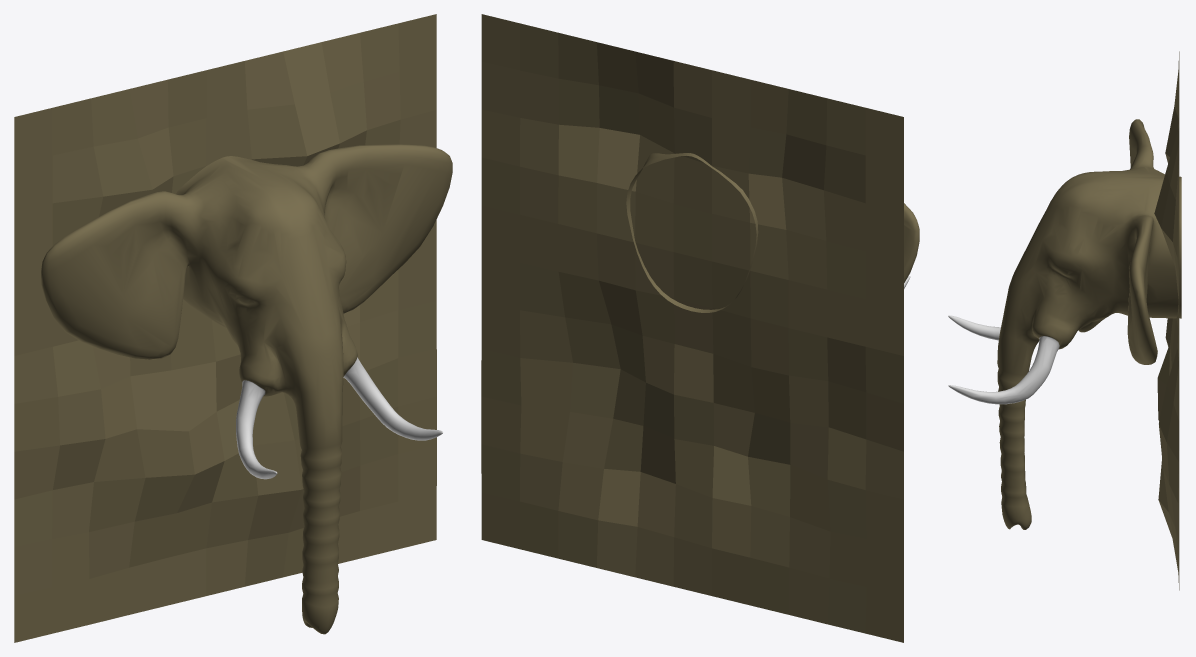
The model's file is fil.fbx.
3 views of the same model, side by side, from view 1: azimuth 30°, elevation 25°; view 2: azimuth 150°, elevation 25°; view 3: azimuth 270°, elevation 25° (orthographic). The views are drawn at different scales.
Parts seen in each view (by area): view 1: Plane, fil; view 2: Plane, fil; view 3: fil, Plane.
Boxes of the visible parts, <box> form: Plane: <box>14,14,436,642</box>; fil: <box>41,144,452,634</box>; Plane: <box>481,14,903,642</box>; fil: <box>626,153,919,312</box>; fil: <box>948,119,1181,529</box>; Plane: <box>1154,51,1179,590</box>.
Size of the model in its own units: 225 by 267 by 125.
